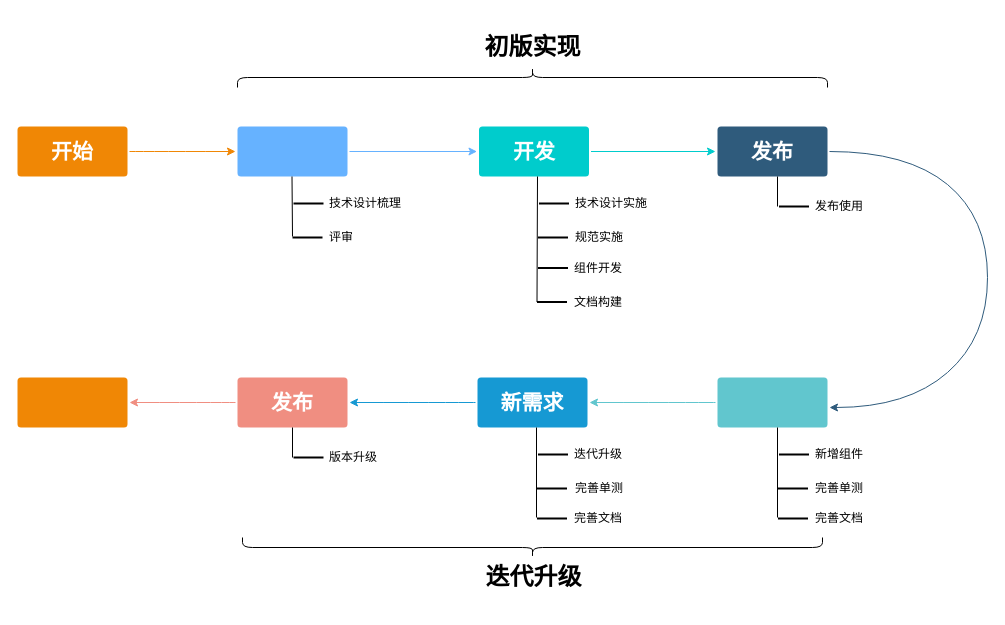
Some shapes in this 1005 by 625 pixel diagram are drawn without their labels. Here are the shapes that lost their labels. From the top down, the centre of each, then its label:
(x=292, y=151): 准备
(x=72, y=402): 结束
(x=772, y=402): 新组件
